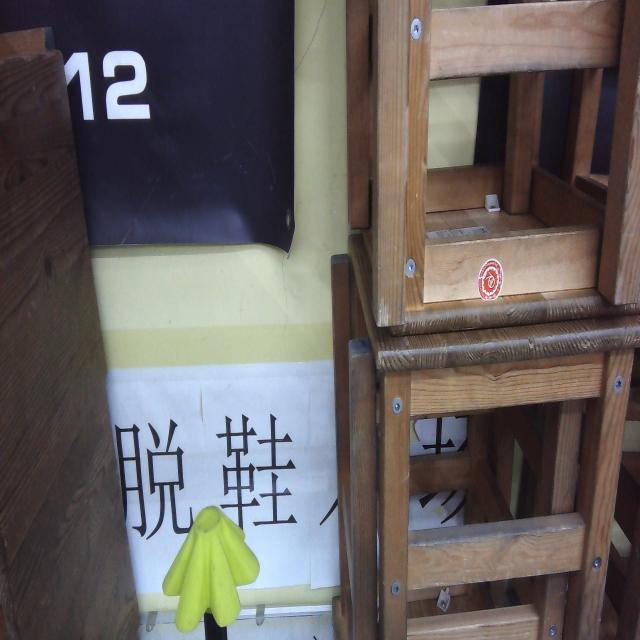Yellow-Stake-Head: (162, 504, 261, 636)
